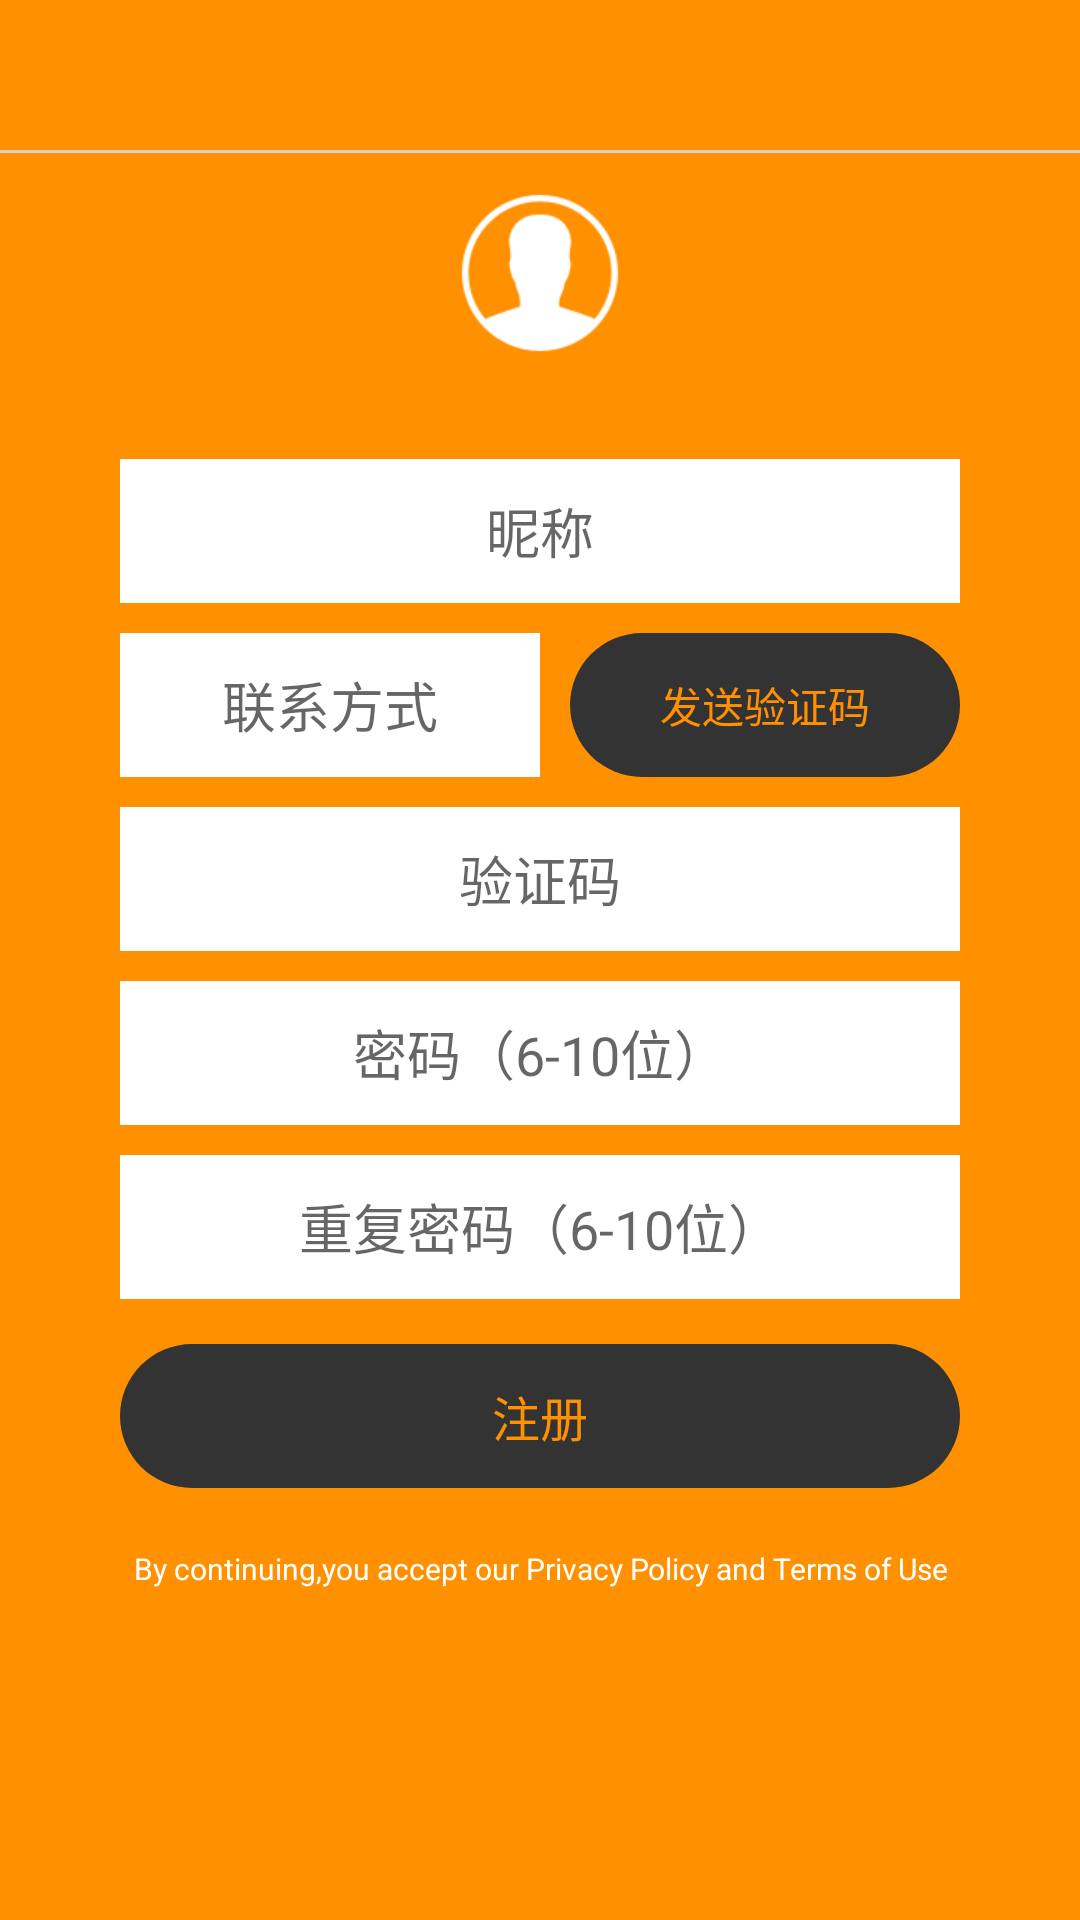

Screen size 1080 × 1920. Icon name, then its center in pixels as (x,y):
touxiang: (540,273)
